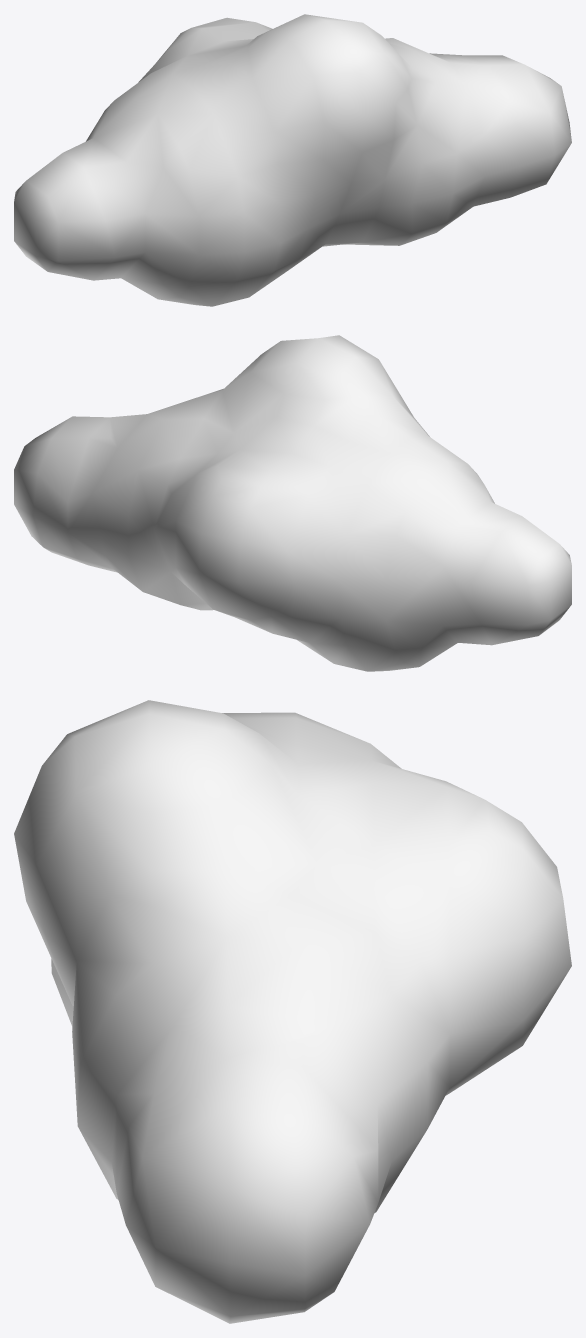
File: Cloud_02.fbx
3 views of the same model, one above another, from view 1: azimuth 30°, elevation 25°; view 2: azimuth 150°, elevation 25°; view 3: azimuth 270°, elevation 25° (orthographic). The views are drawn at different scales.
Parts seen in each view (by area): view 1: Cloud_02; view 2: Cloud_02; view 3: Cloud_02.
Boxes of the visible parts, left/top/right/bottom form: Cloud_02: left=14, top=14, right=571, bottom=306; Cloud_02: left=14, top=335, right=571, bottom=671; Cloud_02: left=14, top=700, right=571, bottom=1323.
Bounding box in the file's own units: 483 × 234 × 248.
